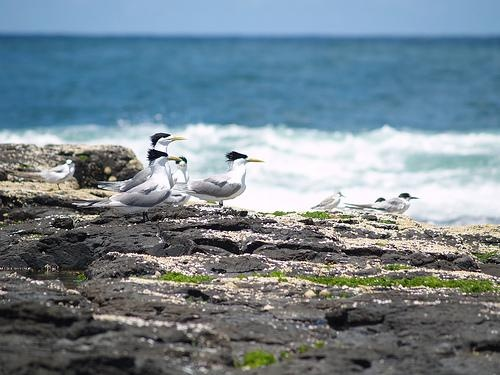bird: (90, 149, 181, 222), (184, 152, 265, 208)
